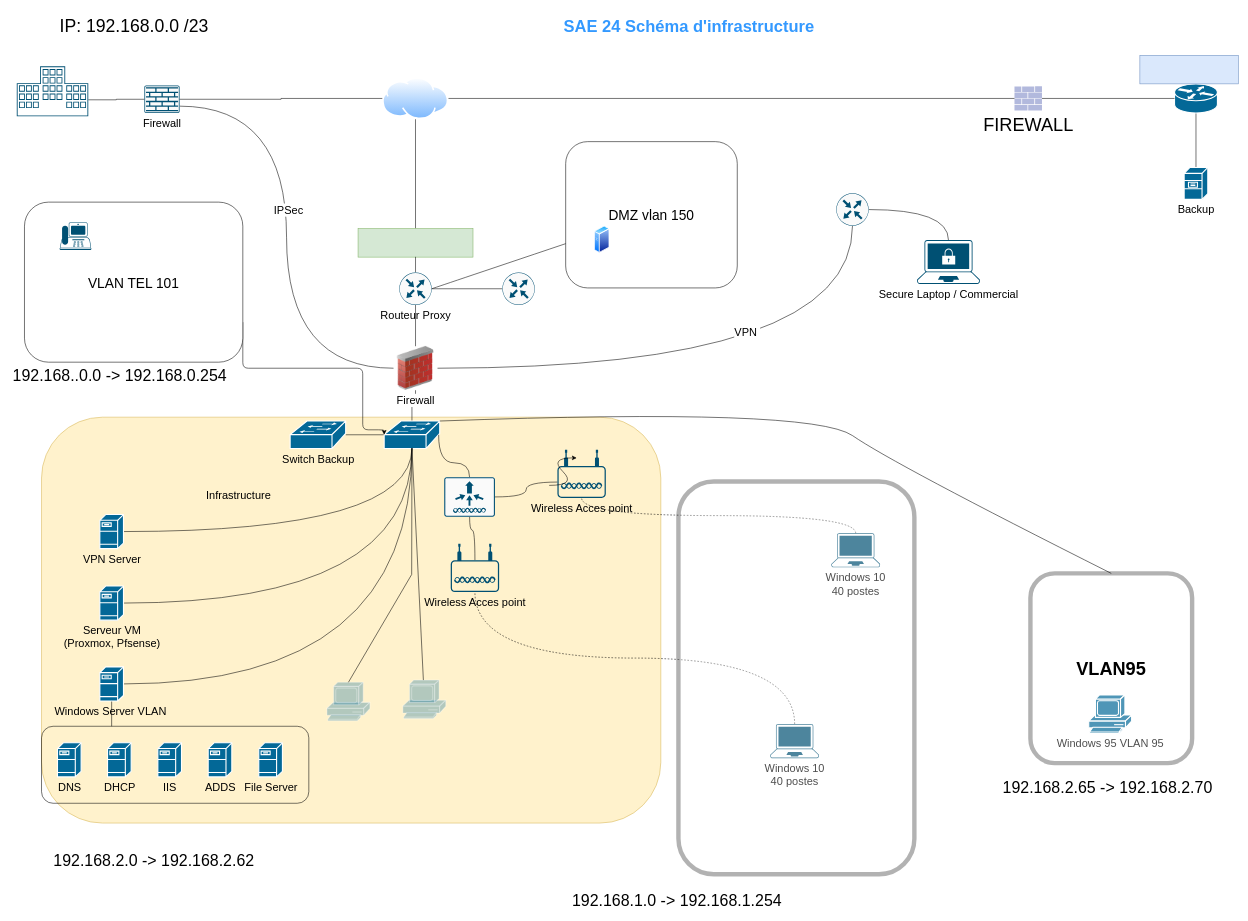
This 1248x921 diagram has some shape labels left out. The shapes that lost their labels are listed below. From the top down, each one's box as (x1, y1, x2, y2) in pixels, then its label:
(1139, 55, 1238, 84): Réseau de Backup
(16, 66, 88, 116): Glasgow Headquarter
(382, 77, 448, 119): Internet
(836, 193, 869, 226): Home Router
(358, 228, 473, 257): Réseau de l'entreprise
(594, 226, 609, 253): www
(502, 272, 535, 305): Routeur Backup
(383, 420, 440, 449): Switch
(444, 477, 495, 517): Wireless Controler
(41, 417, 661, 823): VLANADMIN
(676, 479, 916, 876): VLAN100
